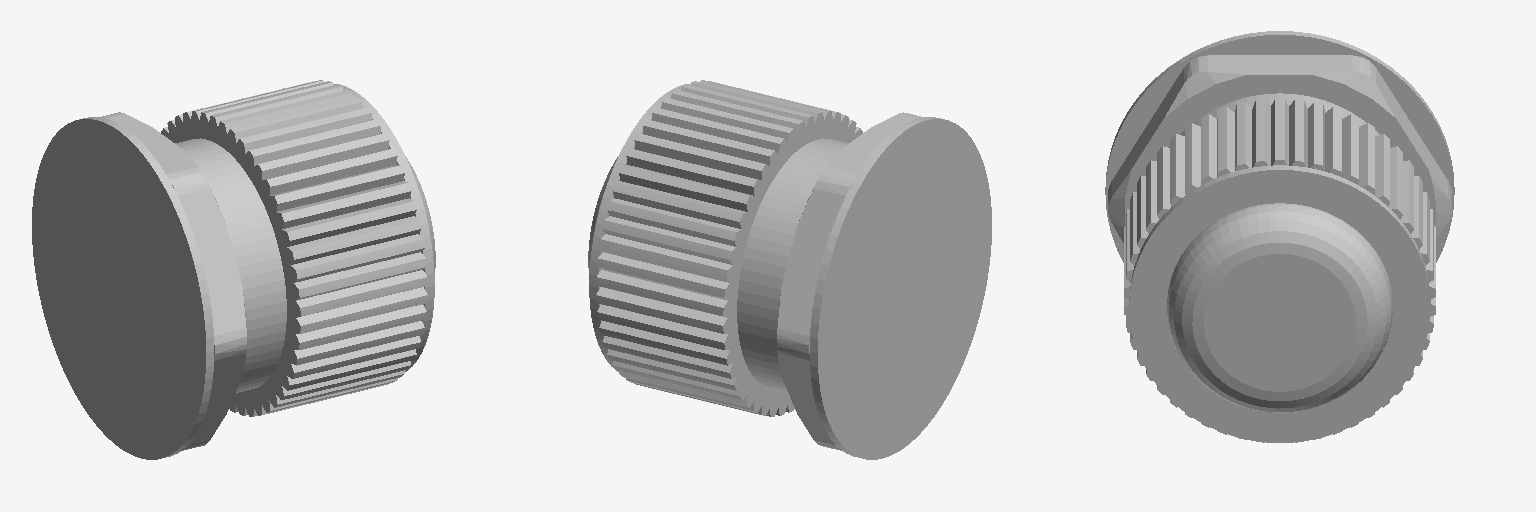
Rendered from button_light_type_3.obj.
3 views of the same model, side by side, from view 1: azimuth 30°, elevation 25°; view 2: azimuth 150°, elevation 25°; view 3: azimuth 270°, elevation 25° (orthographic).
Visible parts, largest first — view 1: box_button (Meshed), ring (Meshed), screew (Meshed), button_base (Meshed), box_button_top (Meshed); view 2: box_button (Meshed), ring (Meshed), screew (Meshed), button_base (Meshed), box_button_top (Meshed); view 3: transparent_button (Meshed), box_button_top (Meshed), box_button (Meshed), screew (Meshed), ring (Meshed), button_base (Meshed).
Boxes of the visible parts, box(x1,y1,x2,y2) form: box_button (Meshed): box(161, 80, 427, 416); ring (Meshed): box(32, 117, 213, 459); screew (Meshed): box(101, 112, 246, 450); button_base (Meshed): box(175, 138, 286, 392); box_button_top (Meshed): box(333, 84, 434, 371); box_button (Meshed): box(596, 80, 862, 416); ring (Meshed): box(810, 117, 991, 459); screew (Meshed): box(777, 112, 922, 450); button_base (Meshed): box(737, 138, 848, 392); box_button_top (Meshed): box(589, 84, 690, 371); transparent_button (Meshed): box(1167, 203, 1392, 412); box_button_top (Meshed): box(1129, 165, 1430, 442); box_button (Meshed): box(1124, 98, 1435, 442); screew (Meshed): box(1108, 55, 1451, 242); ring (Meshed): box(1105, 31, 1454, 262); button_base (Meshed): box(1169, 93, 1390, 147).
Bounding box in the file's own units: 17.2 × 19 × 19.